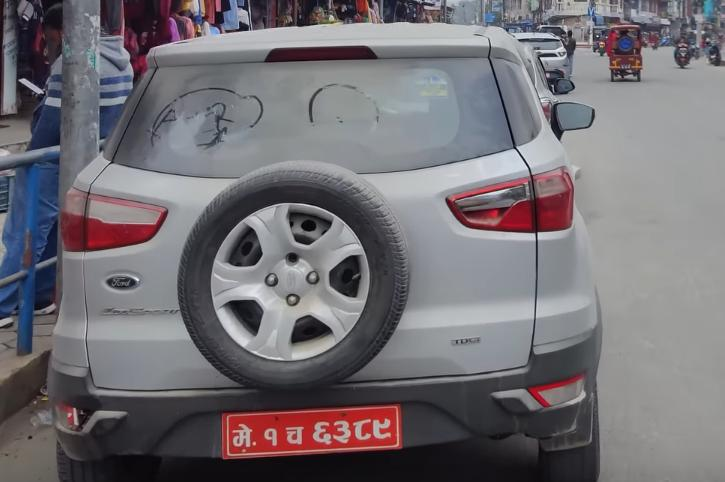SUV: (31, 16, 612, 482)
